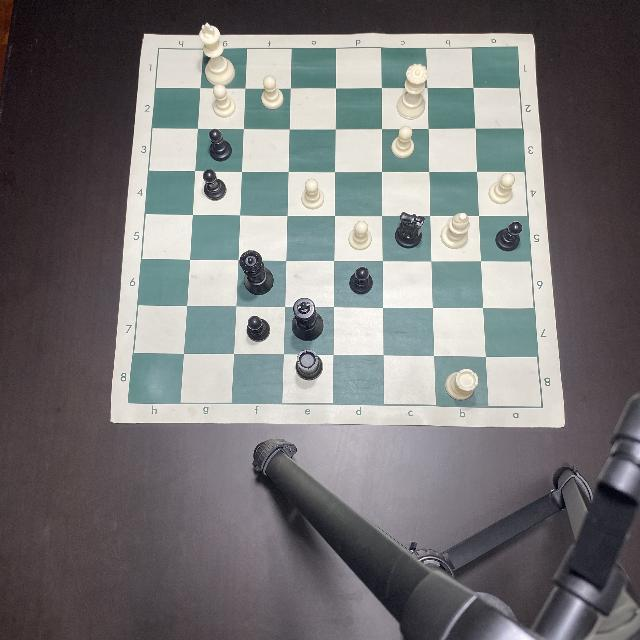black-king: (290, 297, 324, 341)
black-knight: (396, 212, 426, 248)
black-pawn: (495, 222, 523, 250), (245, 315, 272, 343), (210, 128, 232, 162), (204, 168, 226, 200), (351, 266, 374, 294)
black-queen: (240, 250, 276, 296)
black-rook: (296, 350, 322, 380)
board: (117, 35, 567, 428)
white-bishop: (440, 213, 470, 249)
white-king: (200, 22, 237, 86)
white-pawn: (258, 77, 286, 109), (212, 84, 238, 118), (300, 178, 326, 210), (490, 173, 516, 204), (392, 126, 416, 158), (350, 220, 372, 250)
white-queen: (398, 64, 427, 118)
white-rook: (444, 370, 478, 400)
